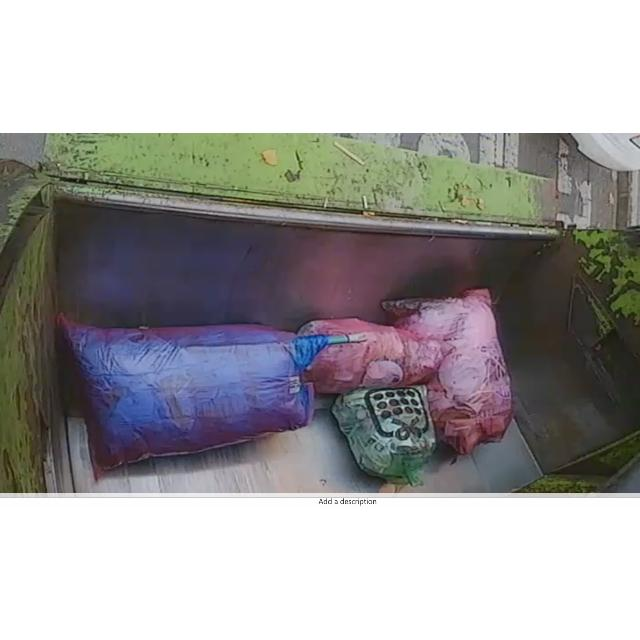general_trashbag: (331, 384, 436, 486)
other_trashbag: (58, 314, 365, 475), (382, 288, 512, 453), (299, 317, 442, 393)
